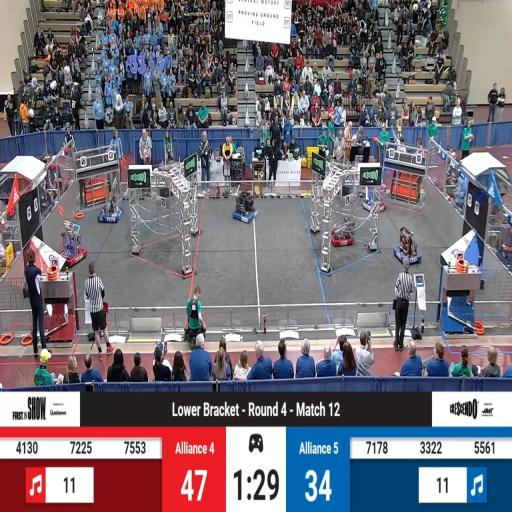robot: (60, 224, 88, 268), (396, 227, 422, 264), (234, 195, 256, 225), (98, 200, 122, 224), (331, 221, 354, 246), (363, 190, 386, 214)
